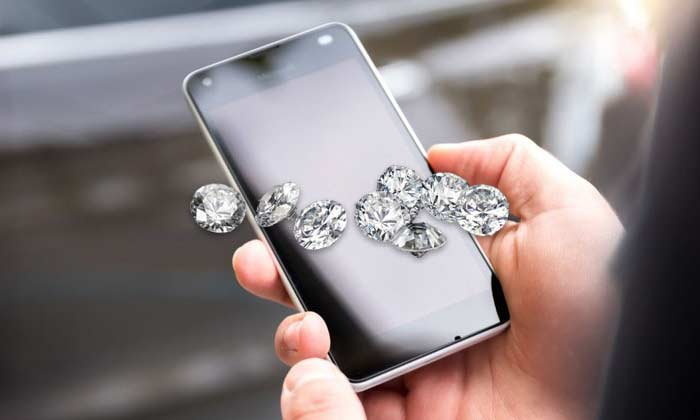phone: (178, 18, 517, 397)
